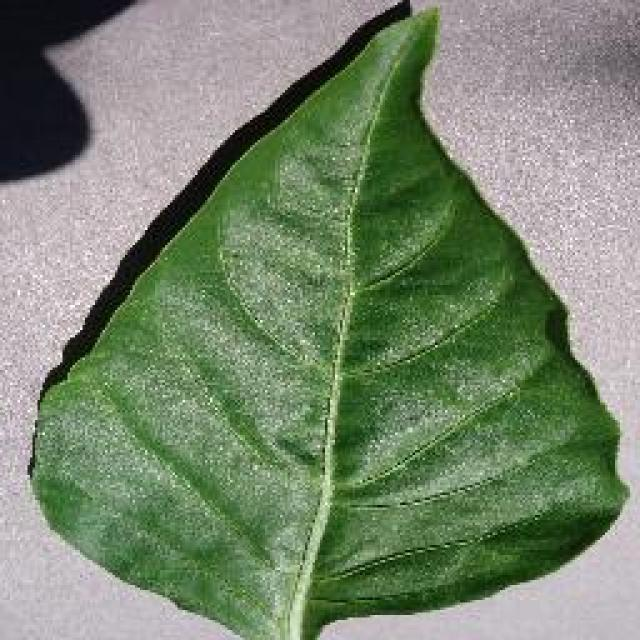Leaf: (164, 110, 553, 536)
